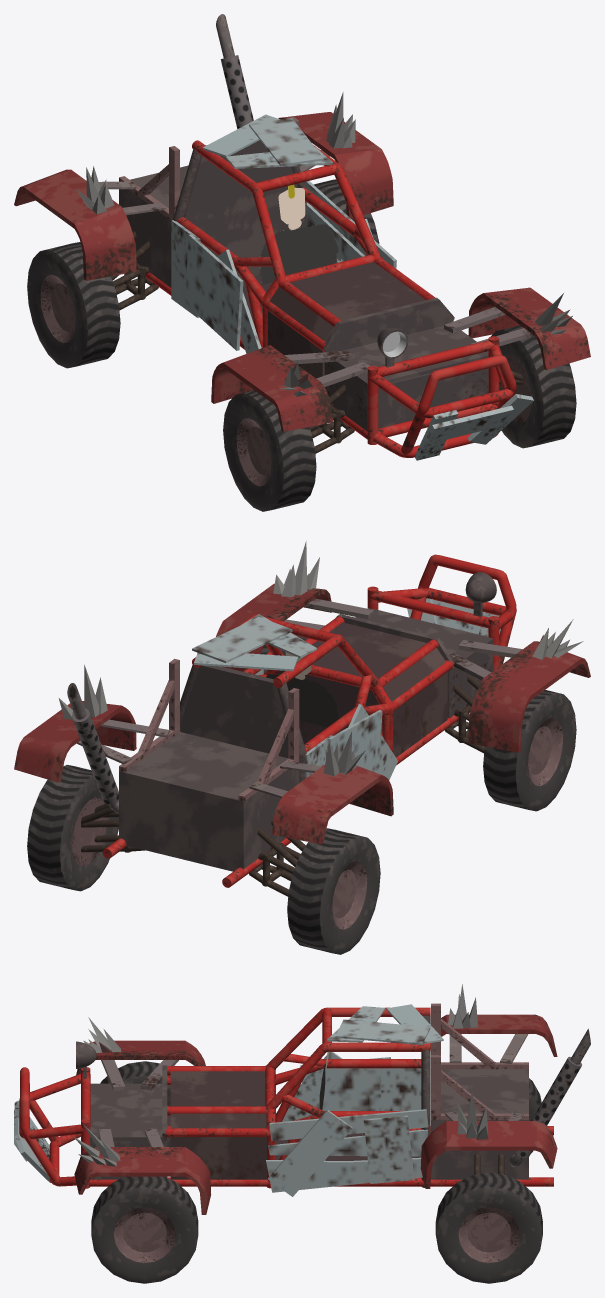
Rendered from enemybuggy.fbx.
3 views of the same model, one above another, from view 1: azimuth 30°, elevation 25°; view 2: azimuth 150°, elevation 25°; view 3: azimuth 270°, elevation 25° (orthographic). The views are drawn at different scales.
Parts seen in each view (by area): view 1: pCylinder54; view 2: pCylinder54; view 3: pCylinder54.
Boxes of the visible parts, x1,y1,x2,y2 form: pCylinder54: (14, 14, 590, 511); pCylinder54: (14, 541, 590, 954); pCylinder54: (14, 984, 590, 1283).
Bounding box in the file's own units: 26 × 20.63 × 48.09.
